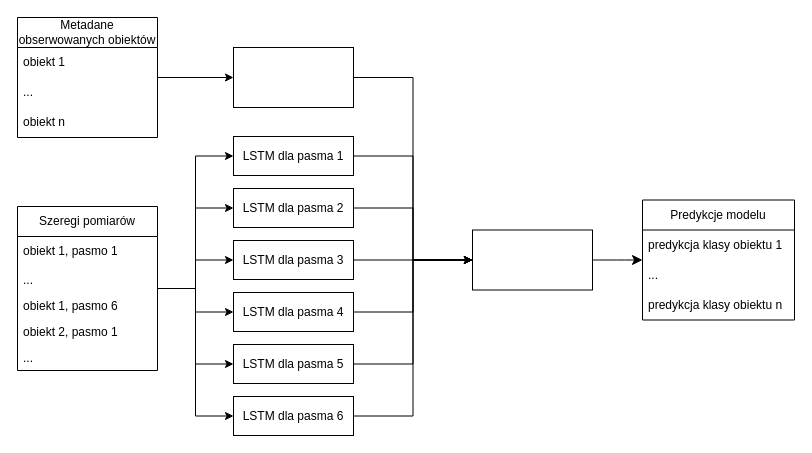
This 812x453 diagram has some shape labels left out. The shapes that lost their labels are listed below. From the top down, each one's centre as x and y in pixels, then its label:
the point at 293,77: MLP
the point at 532,259: Głowica klasyfikacyjna (MLP)
